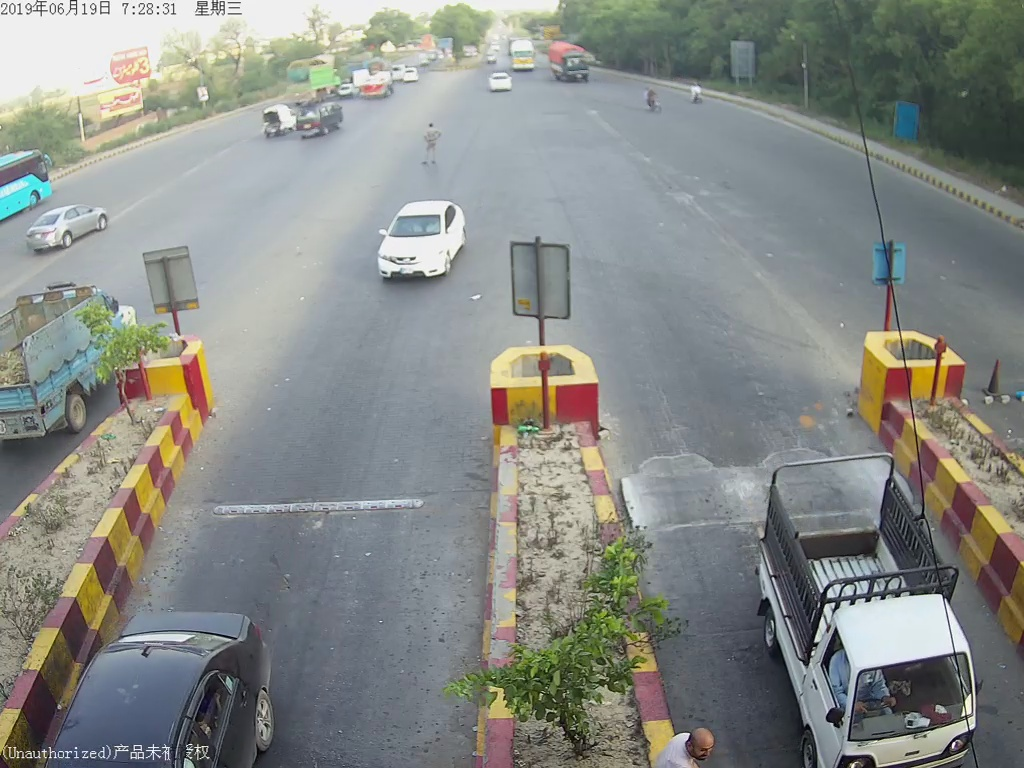Cat-1: (753, 431, 988, 768), (369, 198, 477, 291)
